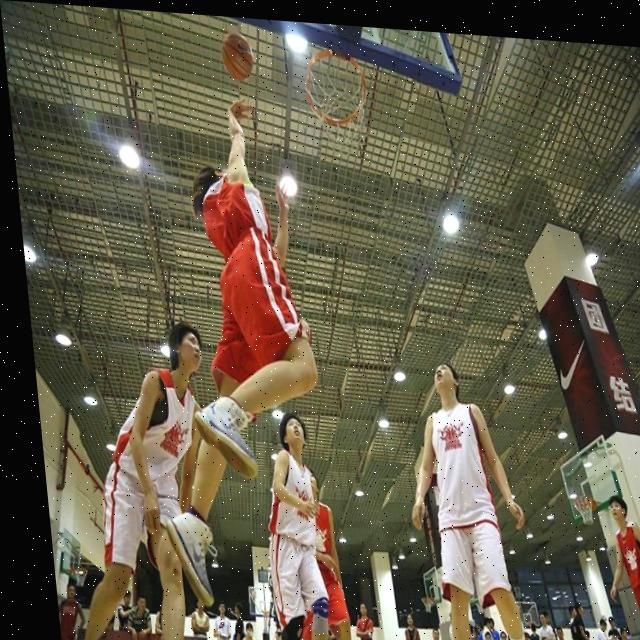basketball: (217, 28, 257, 85)
hoop: (299, 44, 375, 160), (571, 492, 597, 526)
